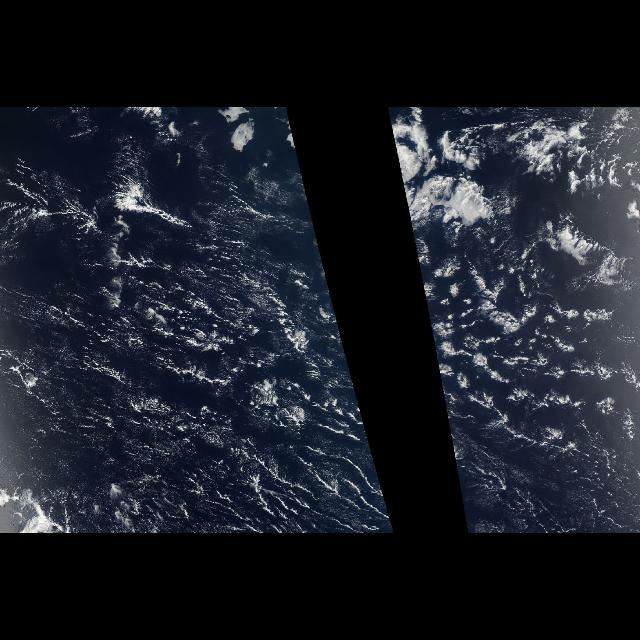Fish: (15, 160, 228, 278)
Flower: (395, 142, 615, 386)
Gravel: (22, 354, 362, 528)
Sugar: (6, 370, 290, 526), (12, 164, 290, 300)
